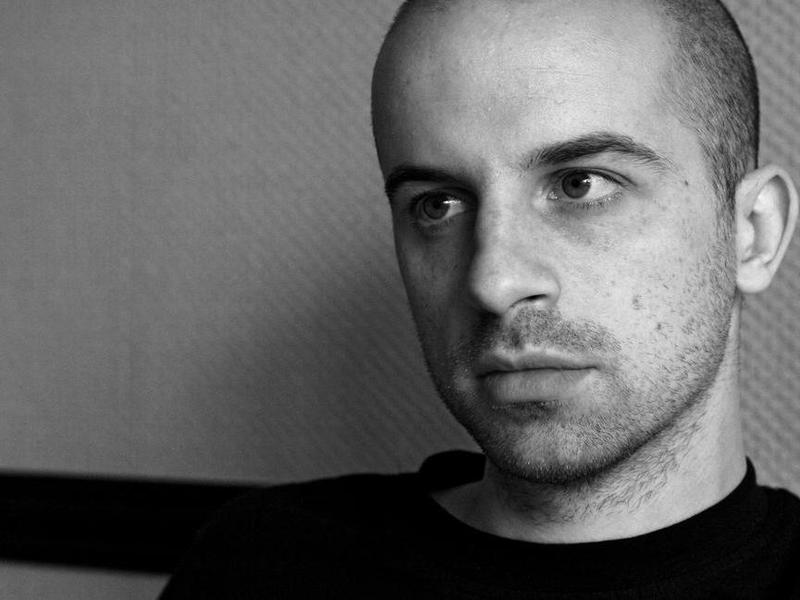person: (227, 2, 789, 600)
